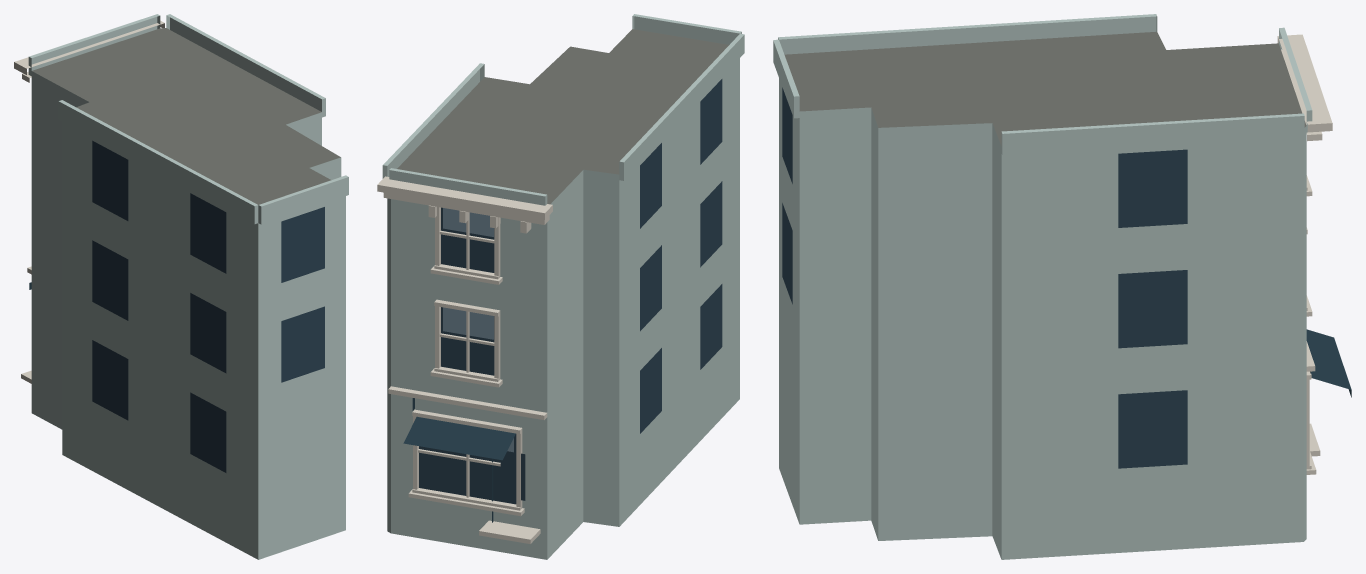
3 renders of one model, left to right at view 1: azimuth 30°, elevation 25°; view 2: azimuth 150°, elevation 25°; view 3: azimuth 270°, elevation 25°, orthographic. The views are drawn at different scales.
Parts seen in each view (by area): view 1: Footprint 0 / surface 2, Footprint 0 / surface 1, Inset glazing, Facade bay volumes, Cornices and window frames; view 2: Footprint 0 / surface 2, Footprint 0 / surface 1, Inset glazing, Cornices and window frames, Facade bay volumes, Storefronts and doors, Sky reflection panels; view 3: Footprint 0 / surface 2, Footprint 0 / surface 1, Inset glazing, Facade bay volumes, Cornices and window frames, Storefronts and doors.
Part boxes in pixels (x1=…): Footprint 0 / surface 2: x1=31, y1=71, x2=345, y2=559; Footprint 0 / surface 1: x1=32, y1=28, x2=340, y2=204; Inset glazing: x1=92, y1=140, x2=324, y2=472; Facade bay volumes: x1=28, y1=14, x2=348, y2=224; Cornices and window frames: x1=14, y1=20, x2=164, y2=383; Footprint 0 / surface 2: x1=387, y1=58, x2=739, y2=559; Footprint 0 / surface 1: x1=397, y1=29, x2=728, y2=204; Inset glazing: x1=419, y1=79, x2=722, y2=504; Cornices and window frames: x1=377, y1=176, x2=552, y2=543; Facade bay volumes: x1=382, y1=14, x2=744, y2=205; Storefronts and doors: x1=403, y1=398, x2=515, y2=522; Sky reflection panels: x1=443, y1=208, x2=513, y2=452; Footprint 0 / surface 2: x1=779, y1=78, x2=1306, y2=559; Footprint 0 / surface 1: x1=784, y1=31, x2=1306, y2=146; Inset glazing: x1=782, y1=87, x2=1187, y2=468; Facade bay volumes: x1=773, y1=14, x2=1312, y2=155; Cornices and window frames: x1=1277, y1=34, x2=1332, y2=474; Storefronts and doors: x1=1306, y1=329, x2=1351, y2=397.
Size of the model in its own units: 5.88 by 9.79 by 11.99.
